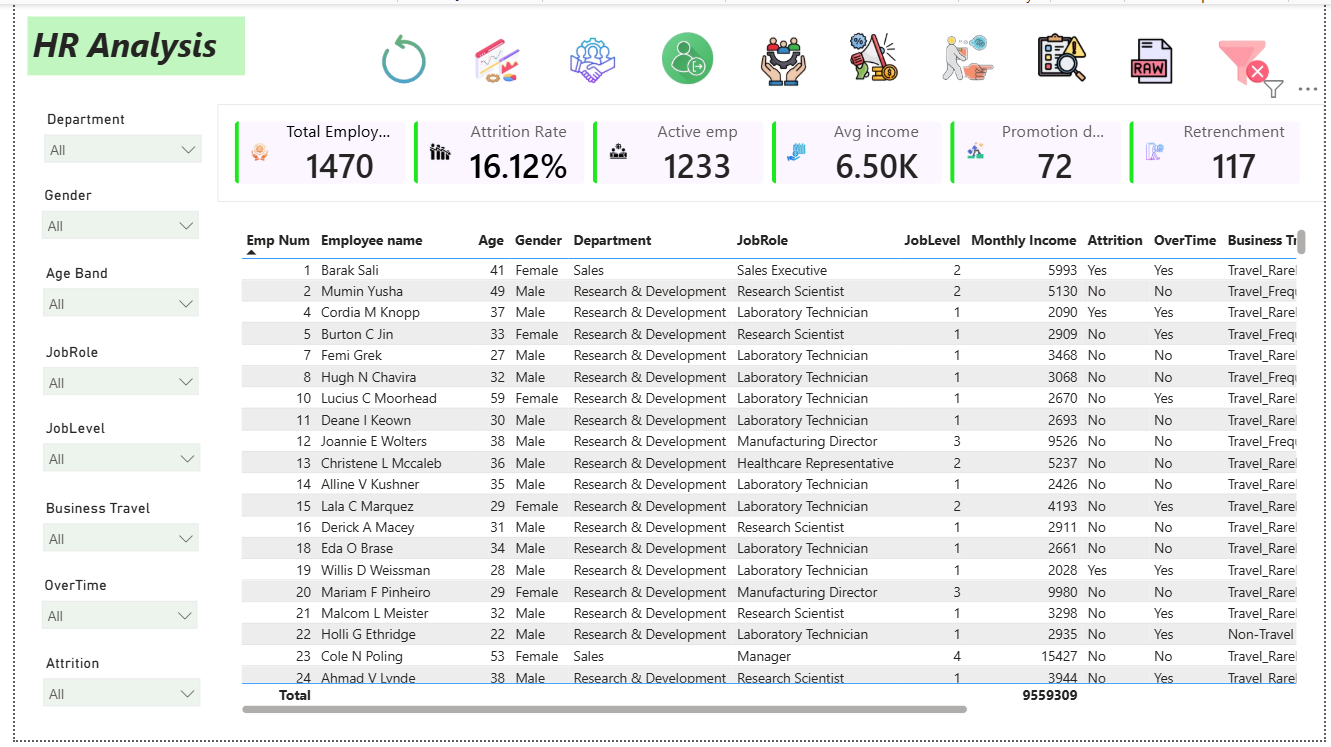

This screenshot's page, from the dashboard's own definition file:
{"tool":"powerbi","page":{"name":"HR Dashboard","canvas":[1280,720],"ordinal":0},"visuals":[{"type":"textbox","box":[12.1,12.1,212.9,57.9],"z":0},{"type":"ChicletSlicer1448559807354","fields":{"Category":["HR Metrics.HR Metrics"]},"box":[199.3,195.7,1081,99],"z":0,"group":"g1"},{"type":"cardVisual","fields":{"Data":["Measures#.Total Employees","Measures#.Attrition Rate","Measures#.Active Employees","Measures#.Average Monthly Income","Measures#.Promotion Due Employees","Measures#.Retrenchment"]},"box":[198.6,98.1,1081.2,95.6],"z":1000},{"type":"ChicletSlicer1448559807354","fields":{"Category":["HR Attributes.HR Attributes"]},"box":[199.3,303.3,1081,97.8],"z":1000,"group":"g1"},{"type":"slicer","fields":{"Values":["Employee_Master.Department"]},"box":[17.9,98.6,173.6,68.5],"z":2000},{"type":"clusteredColumnChart","fields":{"Category":["Employee_Master.JobLevel"],"Y":["Measures#.Retention Rate","Measures#.Attrition Rate"]},"box":[225,410.9,1043.1,288.6],"z":2000,"group":"g1"},{"type":"slicer","fields":{"Values":["Employee_Master.Gender"]},"box":[16.2,173.8,173.8,68.7],"z":3000},{"type":"slicer","fields":{"Values":["Employee_Master.Age Band"]},"box":[17.5,249.3,172.5,68.7],"z":4000},{"type":"slicer","fields":{"Values":["Employee_Master.JobRole"]},"box":[17.5,326.1,172.5,68.7],"z":5000},{"type":"slicer","fields":{"Values":["Employee_Master.OverTime"]},"box":[16.2,555.2,172.5,68.7],"z":6000},{"type":"slicer","fields":{"Values":["Employee_Master.JobLevel"]},"box":[17.5,401.6,173.8,68.7],"z":7000},{"type":"slicer","fields":{"Values":["Employee_Master.Business Travel"]},"box":[17.5,479.8,172.5,68.7],"z":8000},{"type":"slicer","fields":{"Values":["Employee_Master.Attrition"]},"box":[17.5,630.7,173.8,68.7],"z":9000},{"type":"image","box":[434.2,21,78.2,70.1],"z":10000},{"type":"image","box":[803.5,21,78.2,70.1],"z":11000},{"type":"image","title":"Reset","box":[342.6,21,78,70],"z":12000},{"type":"image","box":[525.9,21,78.2,70.1],"z":13000},{"type":"image","box":[617.5,21,78.2,70.1],"z":14000},{"type":"image","box":[711.8,21,78.2,70.1],"z":15000},{"type":"image","box":[984.3,21.1,78.2,69.5],"z":16000},{"type":"image","box":[1075,21.1,78.2,69.5],"z":17000},{"type":"image","box":[1165.6,21.1,78.2,69.5],"z":18000},{"type":"group","id":"g1","title":"HR Analysis Panel","box":[199.3,195.7,1081,503.8],"z":19000},{"type":"image","box":[893.7,21.1,78.2,69.5],"z":24000}]}

Visuals, with their boxes on the page's 1280x720 design canvas (x1, y1, x2, y2). These are canvas units, not pixel positions in the 1331x747 screenshot, which may show the page scaled, cropped or inside an application window:
textbox: box=[12, 12, 225, 70]
ChicletSlicer1448559807354 - HR Metrics.HR Metrics: box=[199, 196, 1280, 295]
cardVisual - Measures#.Total Employees x Measures#.Attrition Rate: box=[199, 98, 1280, 194]
ChicletSlicer1448559807354 - HR Attributes.HR Attributes: box=[199, 303, 1280, 401]
slicer - Employee_Master.Department: box=[18, 99, 192, 167]
clusteredColumnChart - Employee_Master.JobLevel x Measures#.Retention Rate: box=[225, 411, 1268, 700]
slicer - Employee_Master.Gender: box=[16, 174, 190, 242]
slicer - Employee_Master.Age Band: box=[18, 249, 190, 318]
slicer - Employee_Master.JobRole: box=[18, 326, 190, 395]
slicer - Employee_Master.OverTime: box=[16, 555, 189, 624]
slicer - Employee_Master.JobLevel: box=[18, 402, 191, 470]
slicer - Employee_Master.Business Travel: box=[18, 480, 190, 548]
slicer - Employee_Master.Attrition: box=[18, 631, 191, 699]
image: box=[434, 21, 512, 91]
image: box=[804, 21, 882, 91]
"Reset" image: box=[343, 21, 421, 91]
image: box=[526, 21, 604, 91]
image: box=[618, 21, 696, 91]
image: box=[712, 21, 790, 91]
image: box=[984, 21, 1062, 91]
image: box=[1075, 21, 1153, 91]
image: box=[1166, 21, 1244, 91]
"HR Analysis Panel" group: box=[199, 196, 1280, 700]
image: box=[894, 21, 972, 91]
